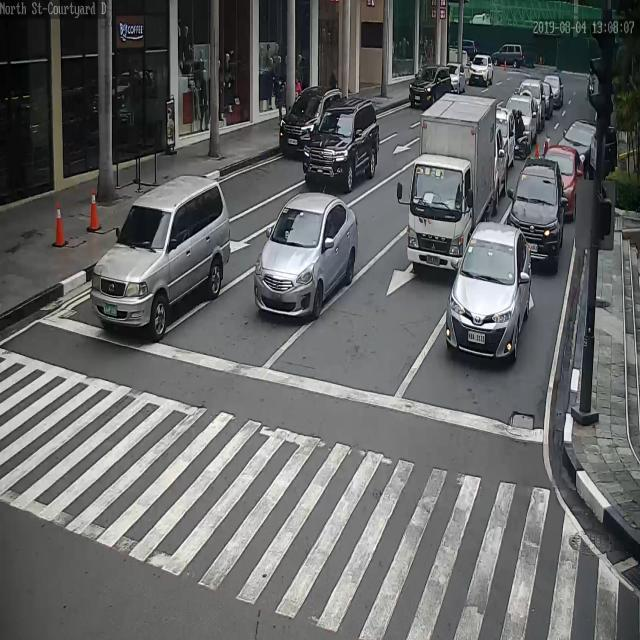car: (89, 173, 231, 338), (253, 193, 358, 318), (446, 224, 533, 360), (507, 155, 565, 274), (341, 88, 409, 169), (279, 85, 349, 161), (558, 121, 618, 173), (543, 146, 582, 222), (410, 65, 452, 107), (505, 95, 538, 145), (516, 79, 544, 129), (495, 123, 509, 212), (496, 106, 515, 170), (491, 43, 524, 67), (468, 54, 493, 84), (545, 74, 564, 109), (446, 64, 468, 93), (540, 80, 554, 121)
jeepney: (513, 107, 528, 161), (586, 63, 595, 99)
motorcycle: (405, 94, 499, 278)
